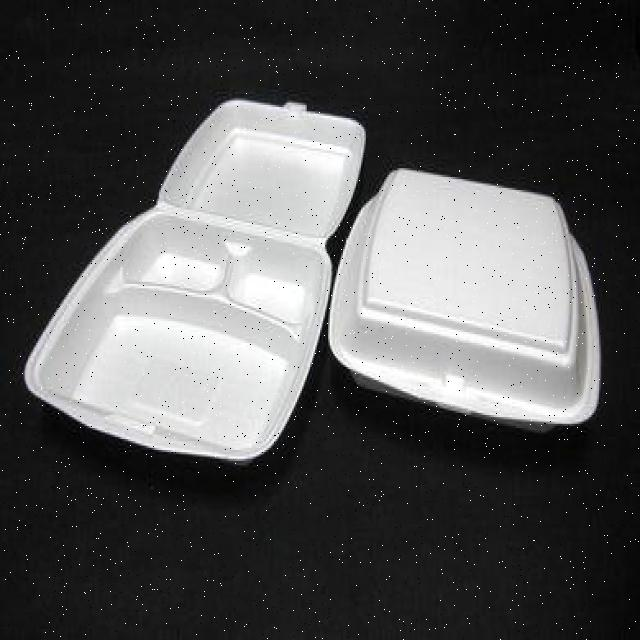styrofoam: (22, 93, 366, 466), (327, 164, 602, 432)
